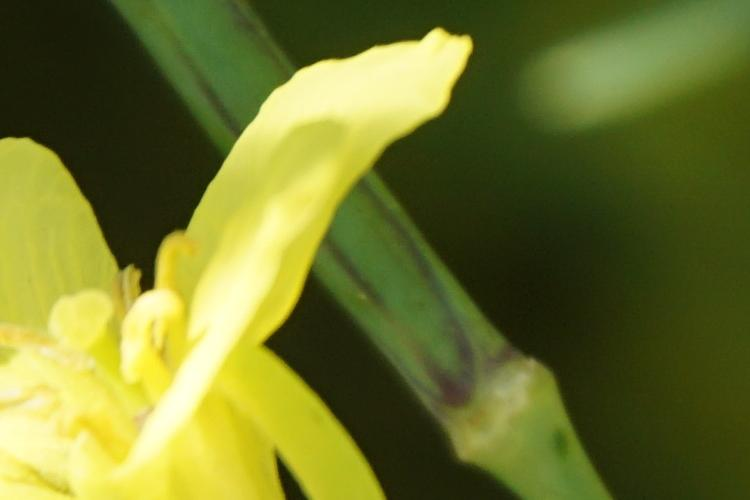yellow: (14, 71, 425, 498)
